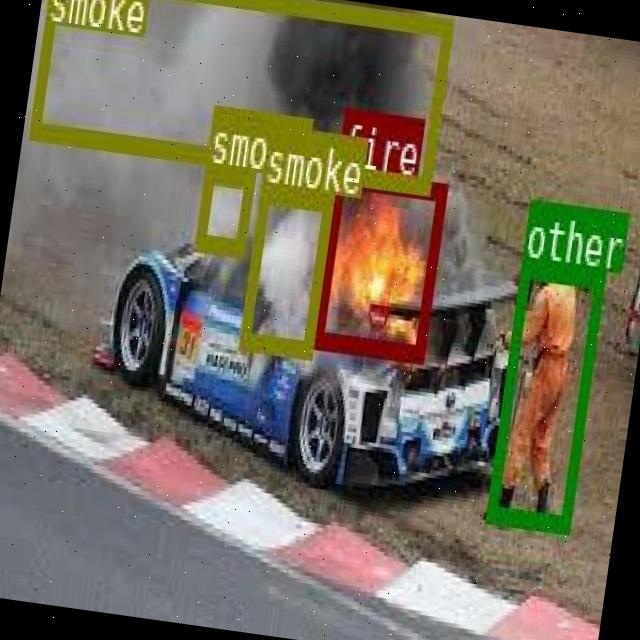fire: (312, 165, 448, 358)
smoke: (27, 0, 453, 192), (238, 183, 332, 356), (194, 162, 254, 254)
